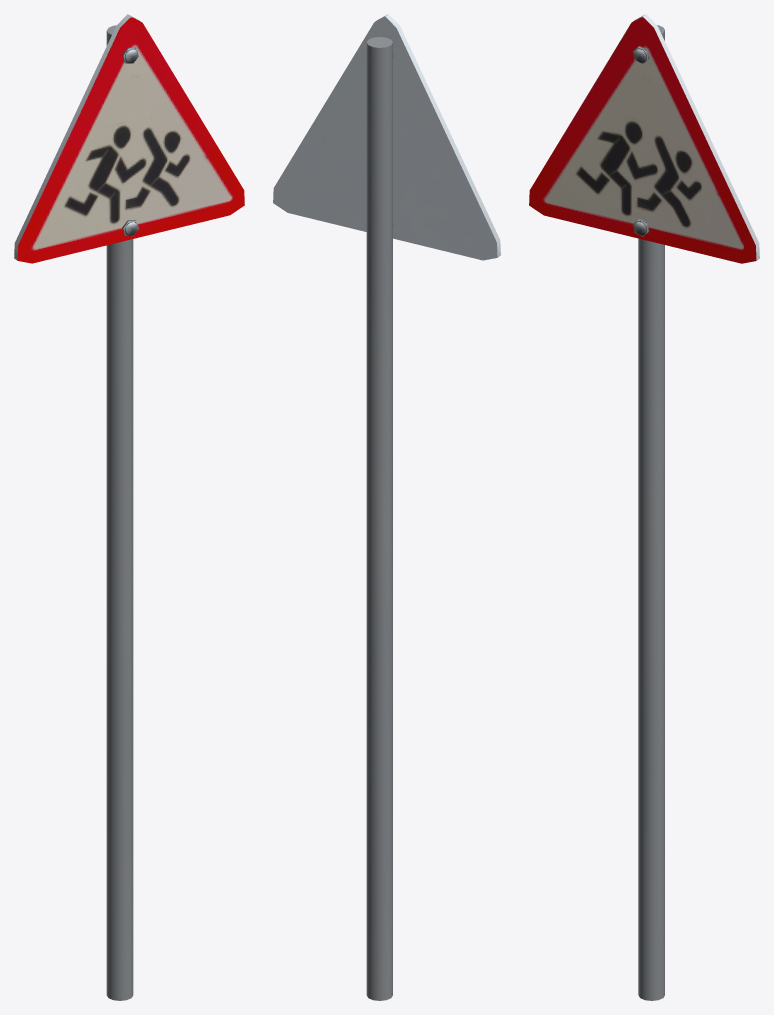
The model's file is StreetSigns_16.fbx.
3 views of the same model, side by side, from view 1: azimuth 30°, elevation 25°; view 2: azimuth 150°, elevation 25°; view 3: azimuth 330°, elevation 25° (orthographic).
Visible parts, largest first — view 1: StreetSigns_16; view 2: StreetSigns_16; view 3: StreetSigns_16.
Boxes of the visible parts, x1,y1,x2,y2 form: StreetSigns_16: (14,14,244,1000); StreetSigns_16: (273,14,500,1000); StreetSigns_16: (529,14,759,1000).
Bounding box in the file's own units: 0.9863 × 4.09 × 0.1408.
